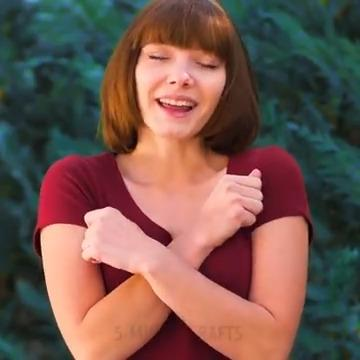love: (68, 164, 289, 293)
